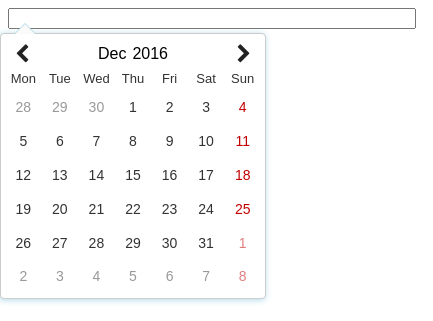
AngularMyDatePickerComponent › select next month year change
Click the 4th button with class "myDpHeaderBtn". click: (244, 53)
box: x1=237 y1=39 x2=251 y2=67
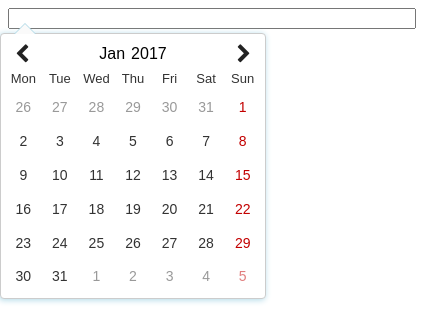
Expected: the button with class "myDpMonthBtn" reads "Jan", x1=99 y1=39 x2=125 y2=67
Expected: the button with class "myDpYearBtn" reads "2017", x1=131 y1=39 x2=167 y2=67
